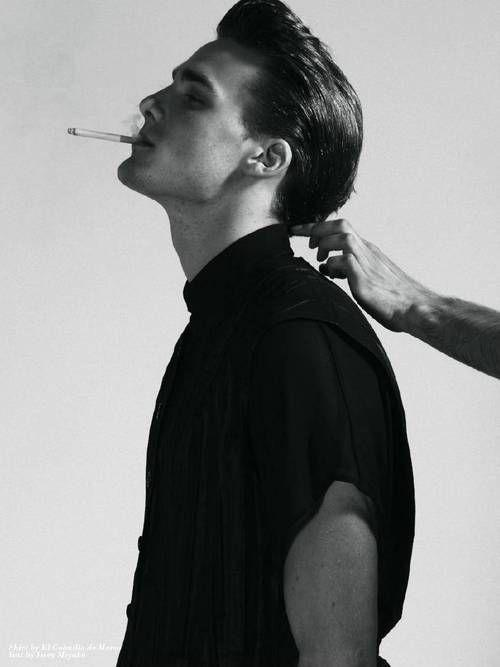cigarette: (66, 127, 145, 144)
